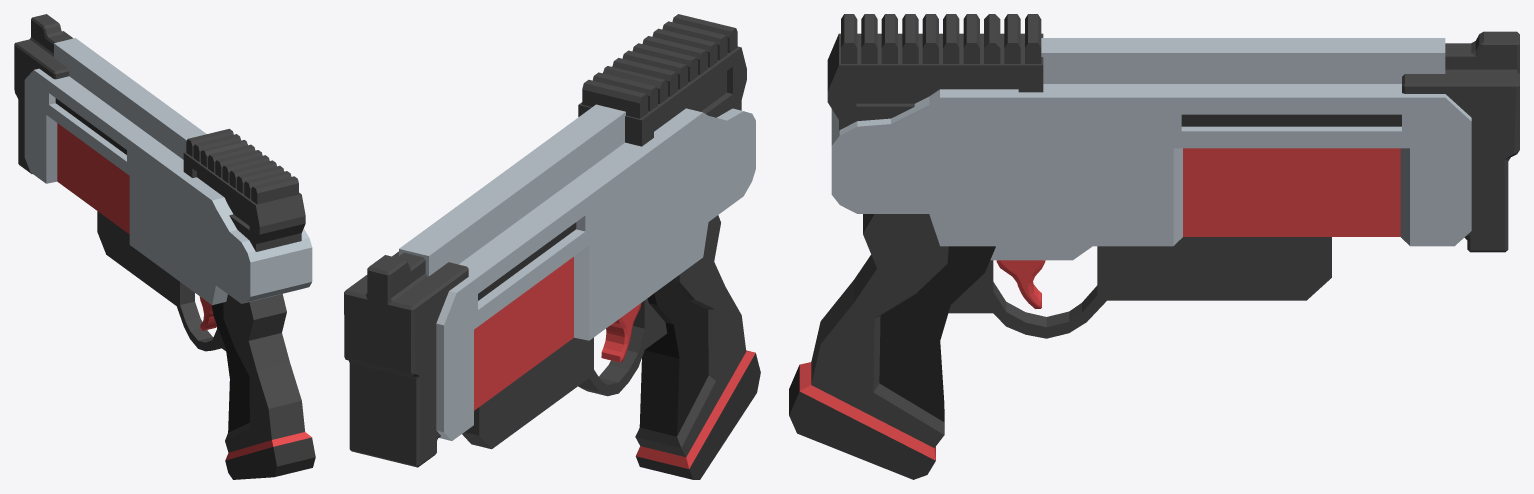
Rendered from Pistol.glb.
3 renders of one model, left to right at view 1: azimuth 30°, elevation 25°; view 2: azimuth 150°, elevation 25°; view 3: azimuth 270°, elevation 25°, orthographic. The views are drawn at different scales.
Parts seen in each view (by area): view 1: Pistol; view 2: Pistol; view 3: Pistol.
Boxes of the visible parts, x1,y1,x2,y2 form: Pistol: [14, 14, 315, 479]; Pistol: [344, 14, 760, 479]; Pistol: [789, 14, 1519, 479].
Bounding box in the file's own units: 0.3813 × 1.82 × 2.75.
